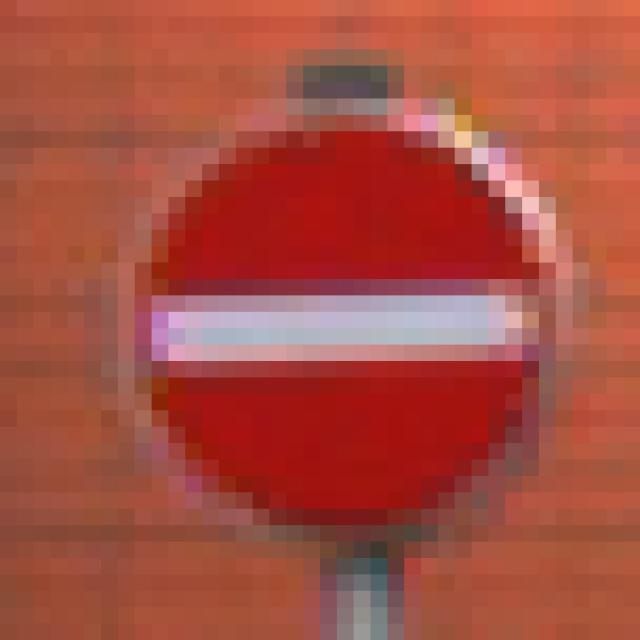No Entry: (102, 83, 557, 543)
